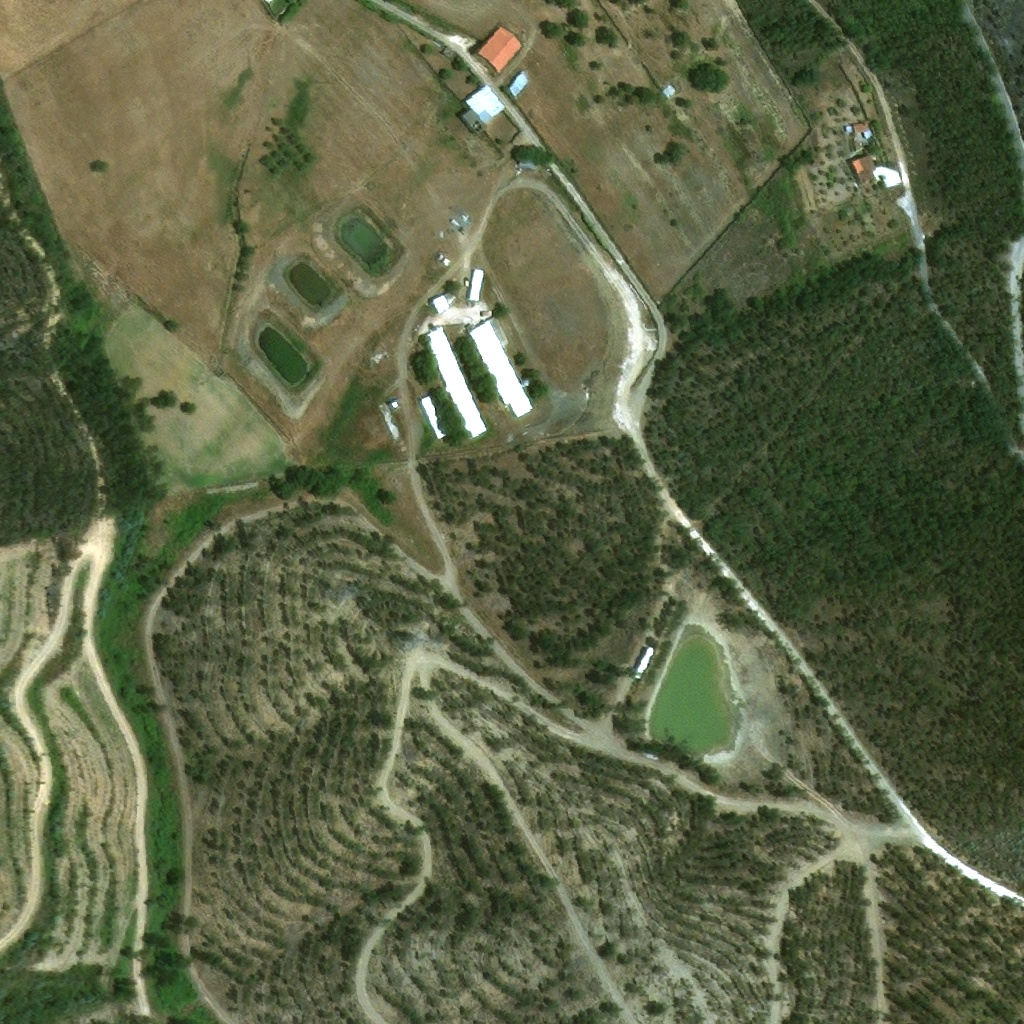0 no-damage: (422, 325, 487, 440), (466, 321, 533, 419), (456, 83, 506, 136), (477, 24, 524, 72), (417, 396, 445, 440), (849, 152, 878, 186), (507, 69, 531, 99), (466, 268, 484, 302), (428, 292, 451, 313), (843, 123, 873, 139), (387, 400, 399, 410)
4 un-classified: (561, 728, 595, 748), (276, 0, 289, 6)
